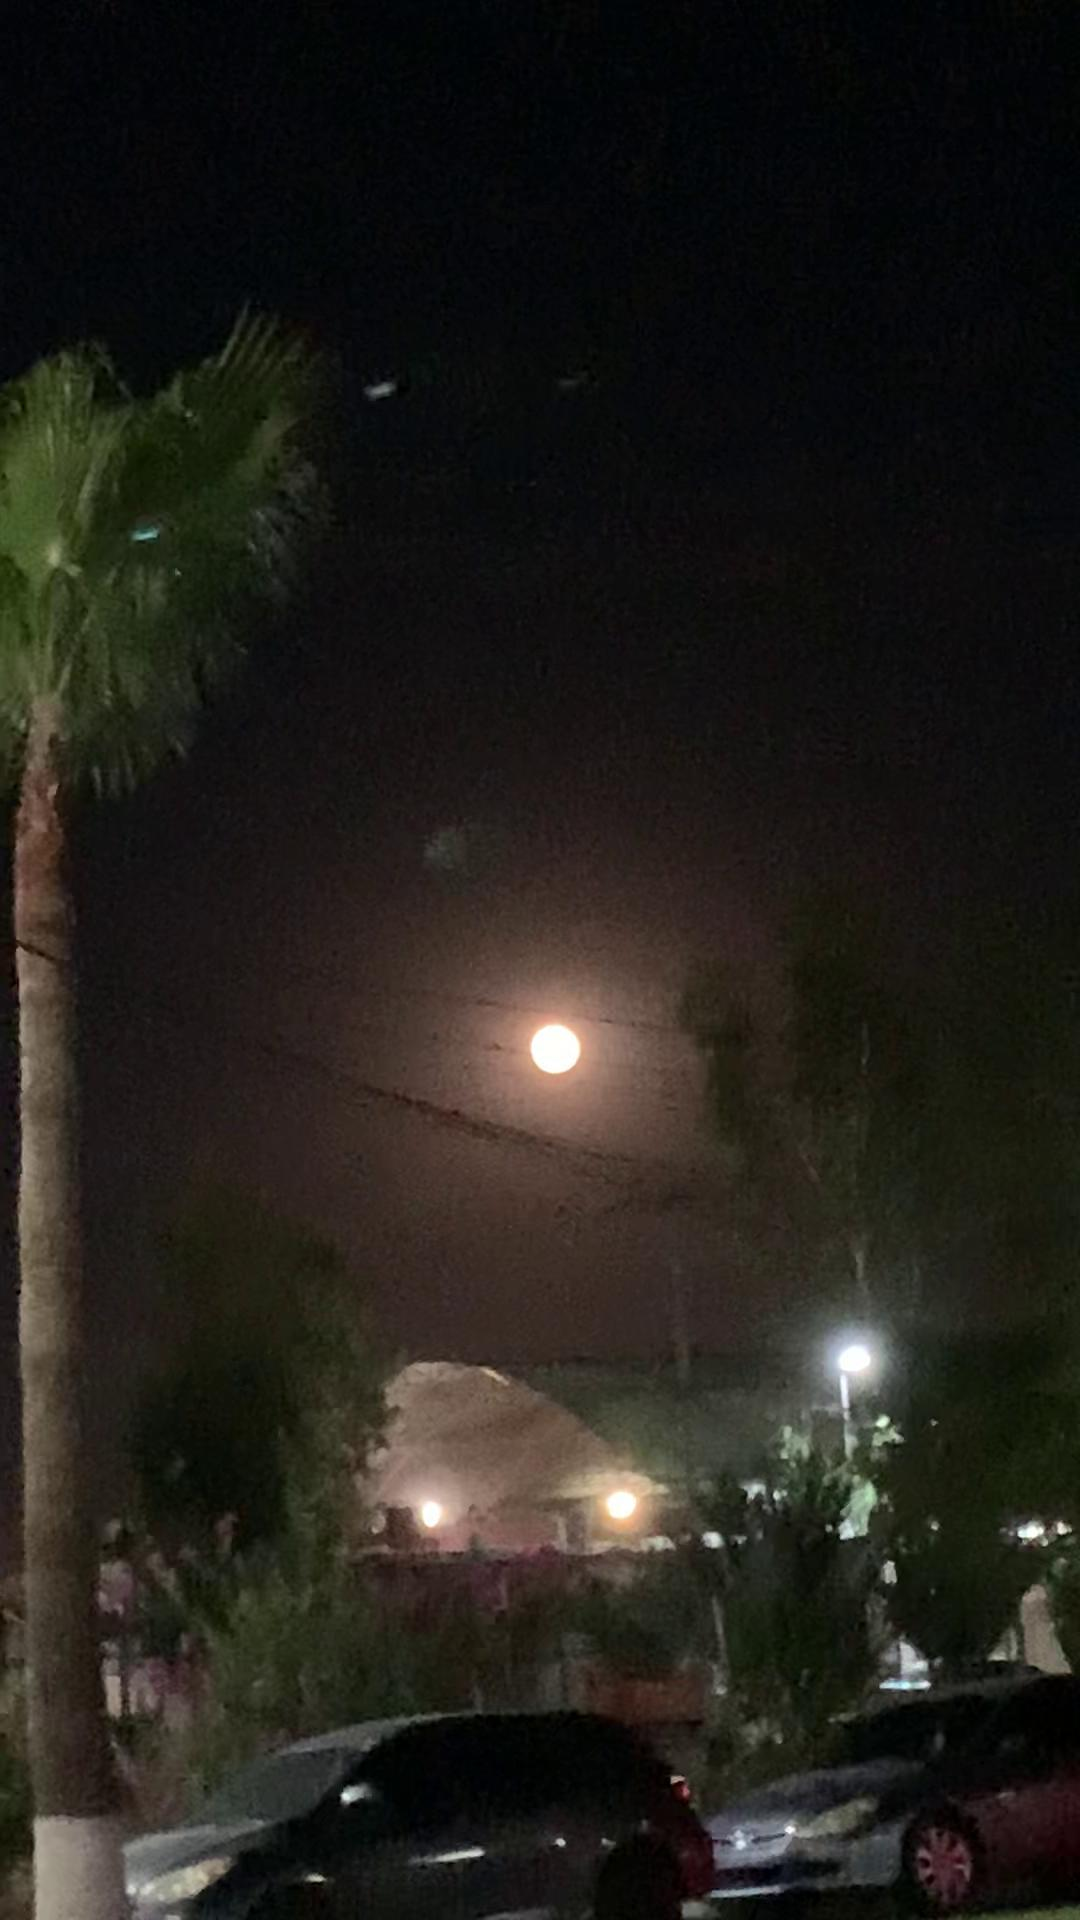moon: (479, 800, 568, 868)
